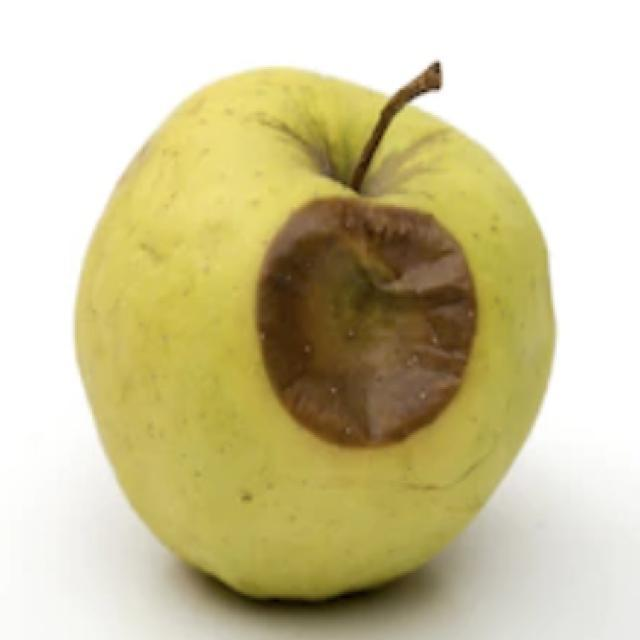Rotten: (95, 75, 555, 597)
